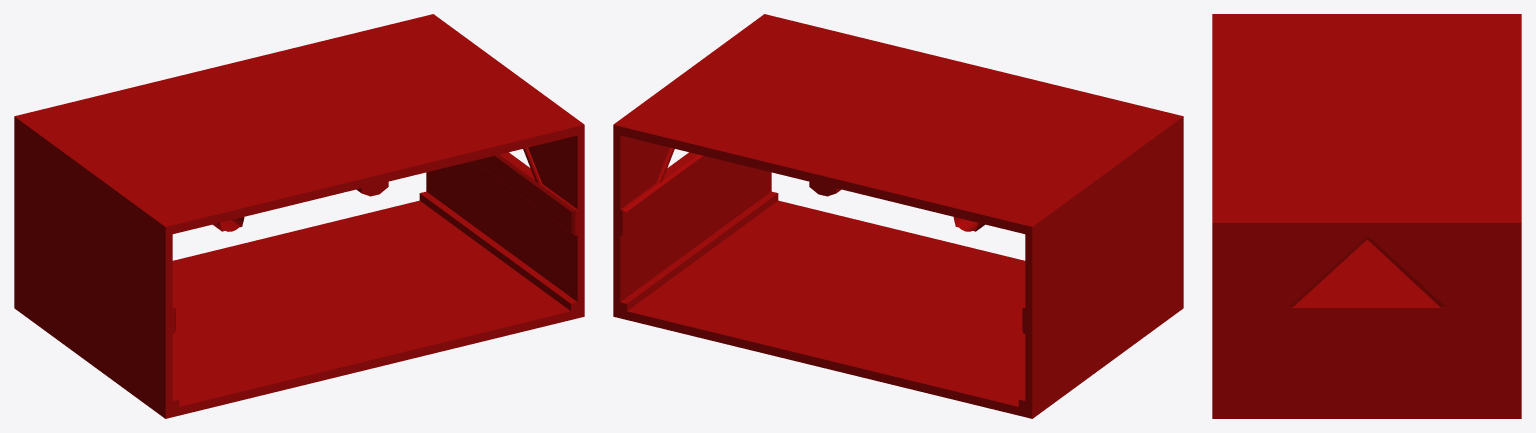
The model's file is PasilloVentana.fbx.
3 renders of one model, left to right at view 1: azimuth 30°, elevation 25°; view 2: azimuth 150°, elevation 25°; view 3: azimuth 270°, elevation 25°, orthographic. The views are drawn at different scales.
Visible parts, largest first — view 1: PasilloVentana1; view 2: PasilloVentana1; view 3: PasilloVentana1.
Boxes of the visible parts, bbox=[...] form: PasilloVentana1: bbox=[14, 14, 584, 418]; PasilloVentana1: bbox=[613, 14, 1183, 418]; PasilloVentana1: bbox=[1212, 14, 1521, 418].
Bounding box in the file's own units: 1600 × 700 × 1000.
